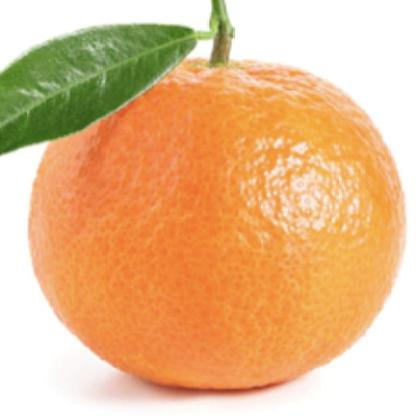fresh: (27, 34, 408, 392)
